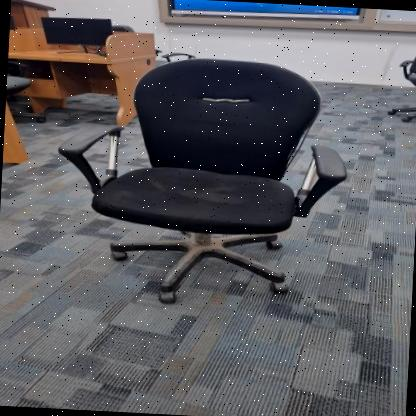chair: (45, 43, 359, 315)
